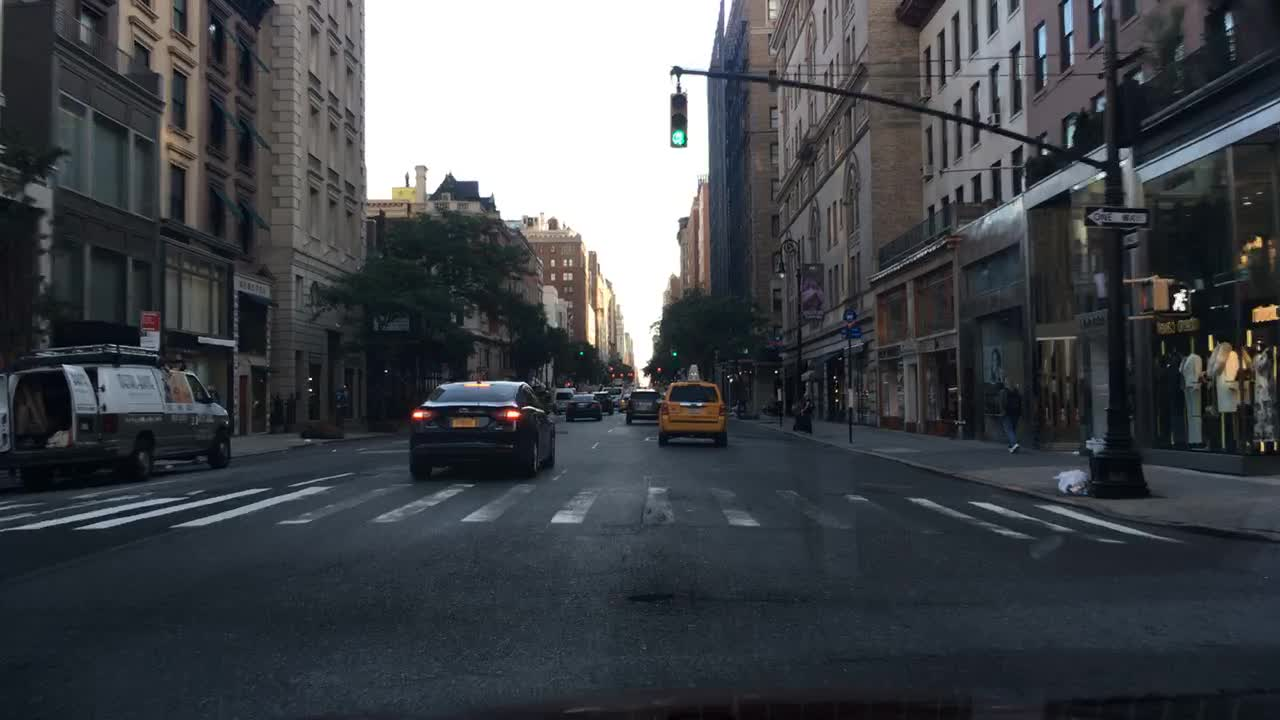car: (0, 341, 234, 482), (405, 376, 556, 483), (657, 358, 729, 451), (623, 387, 661, 423), (568, 391, 603, 424), (546, 387, 576, 415), (608, 387, 622, 411), (600, 389, 614, 412), (622, 385, 637, 404)
person: (993, 373, 1027, 451)
traffic light: (670, 90, 689, 147), (670, 342, 678, 358), (578, 343, 584, 364)
traffic sign: (1139, 274, 1191, 322), (1083, 206, 1151, 229), (137, 311, 161, 329), (838, 323, 864, 338), (139, 336, 160, 353), (843, 306, 859, 322), (146, 329, 160, 340)
